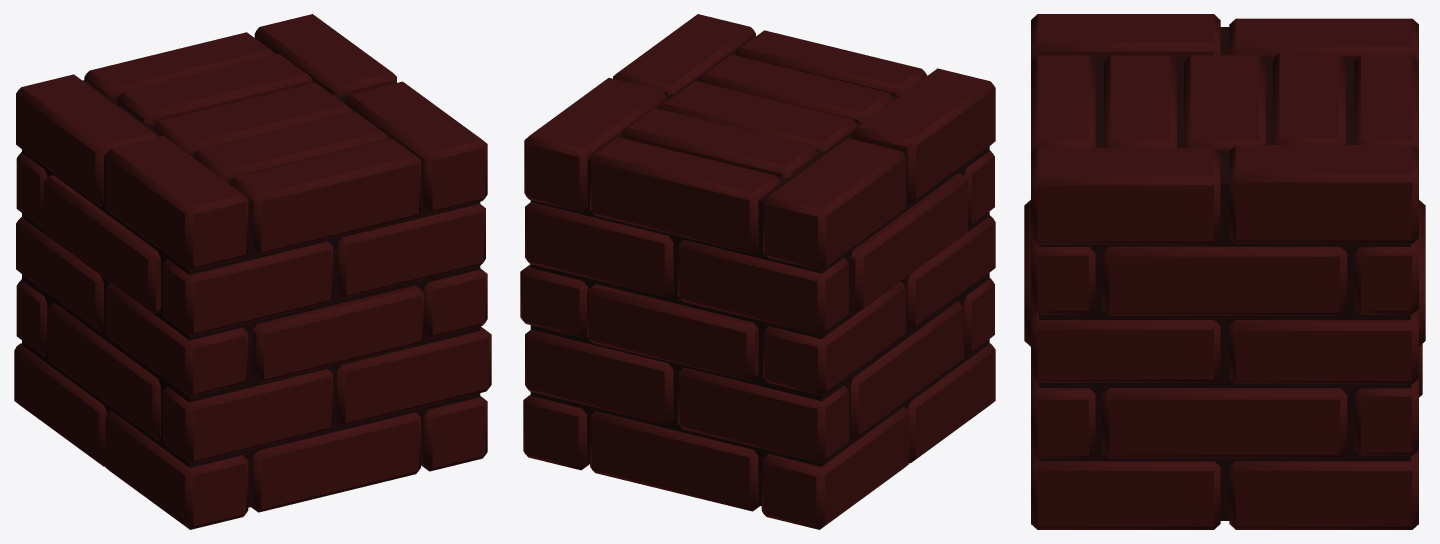
Rendered from Cube_Bricks.fbx.
The picture shows the model from 3 angles, left to right: view 1: azimuth 30°, elevation 25°; view 2: azimuth 150°, elevation 25°; view 3: azimuth 270°, elevation 25°; orthographic projection. The views are drawn at different scales.
Visible parts, largest first — view 1: Cube_Bricks; view 2: Cube_Bricks; view 3: Cube_Bricks.
Boxes of the visible parts, left/top/right/bottom form: Cube_Bricks: left=14, top=14, right=491, bottom=529; Cube_Bricks: left=520, top=14, right=995, bottom=529; Cube_Bricks: left=1024, top=14, right=1425, bottom=529.
Bounding box in the file's own units: 80.5 × 79.82 × 81.13.
